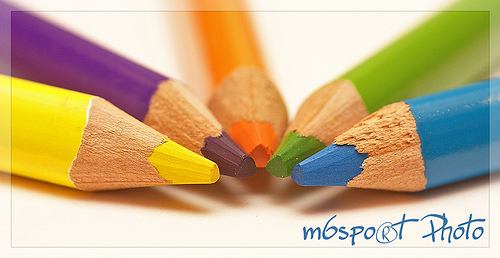pen_tip: (280, 95, 446, 206)
